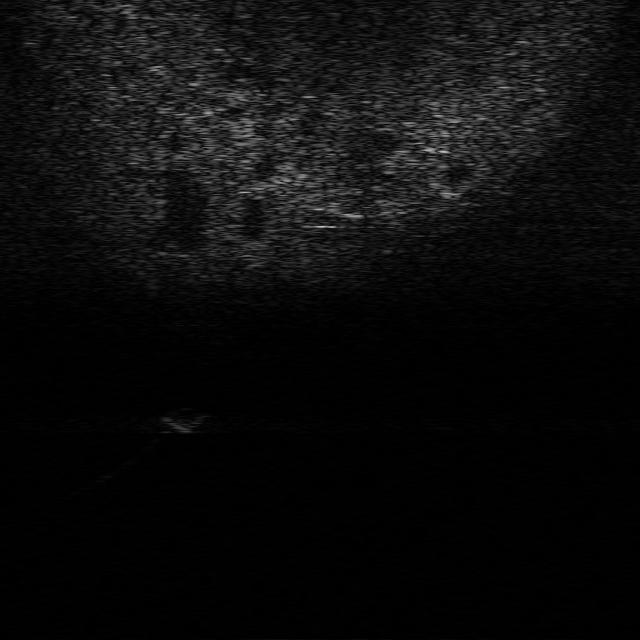cube: (158, 404, 208, 432)
